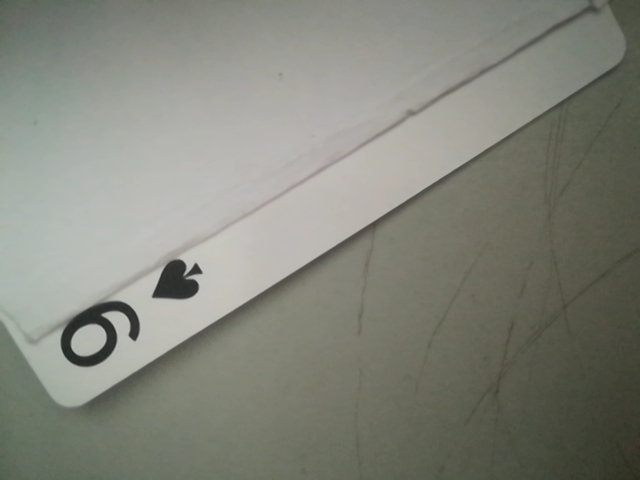ht 9: (36, 253, 212, 389)
